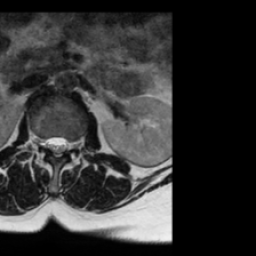CCS_normal: (53, 128, 62, 164)
LFS_normal: (70, 135, 77, 155)
LLS_normal: (62, 133, 70, 155)
RFS_normal: (37, 132, 45, 155)
RLS_normal: (45, 132, 53, 155)
